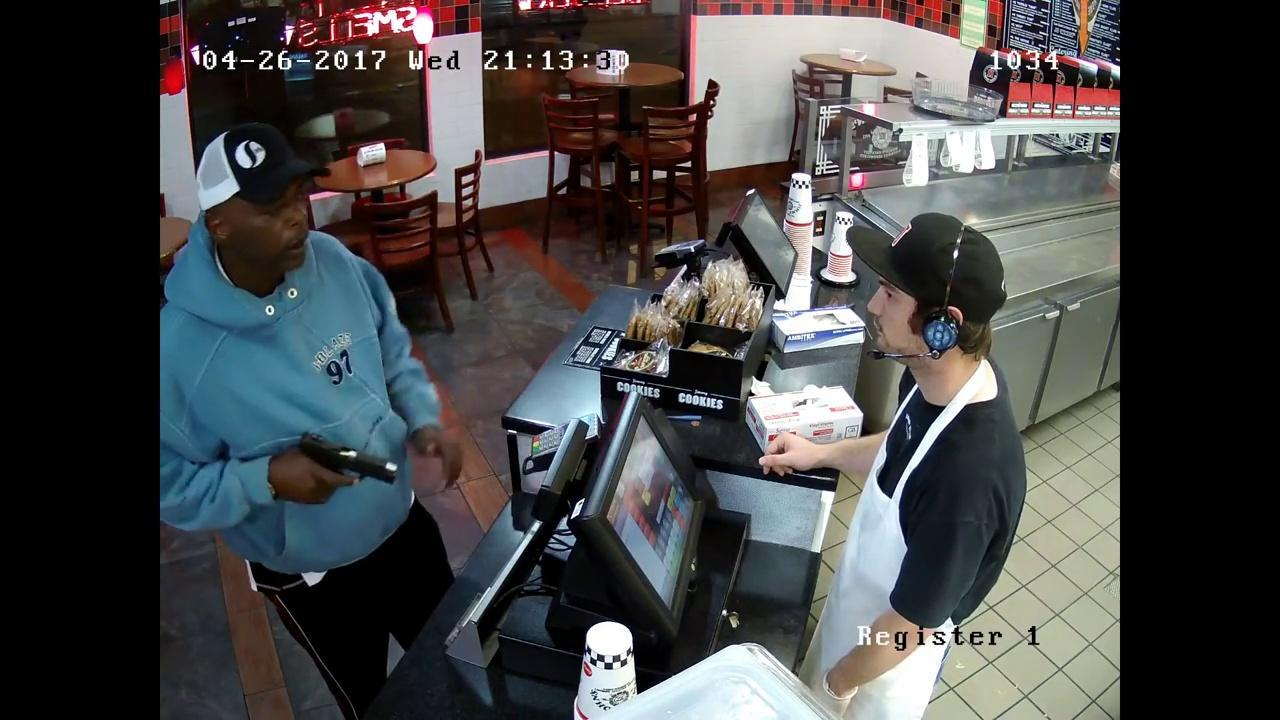Guns: (257, 420, 418, 506)
